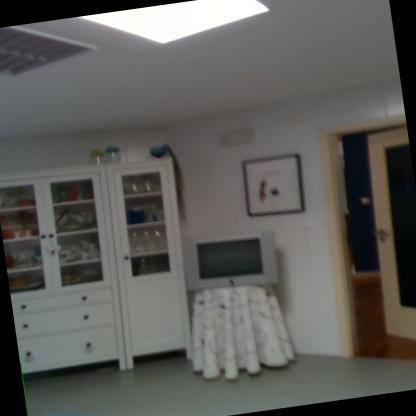semi: (307, 113, 415, 361)
